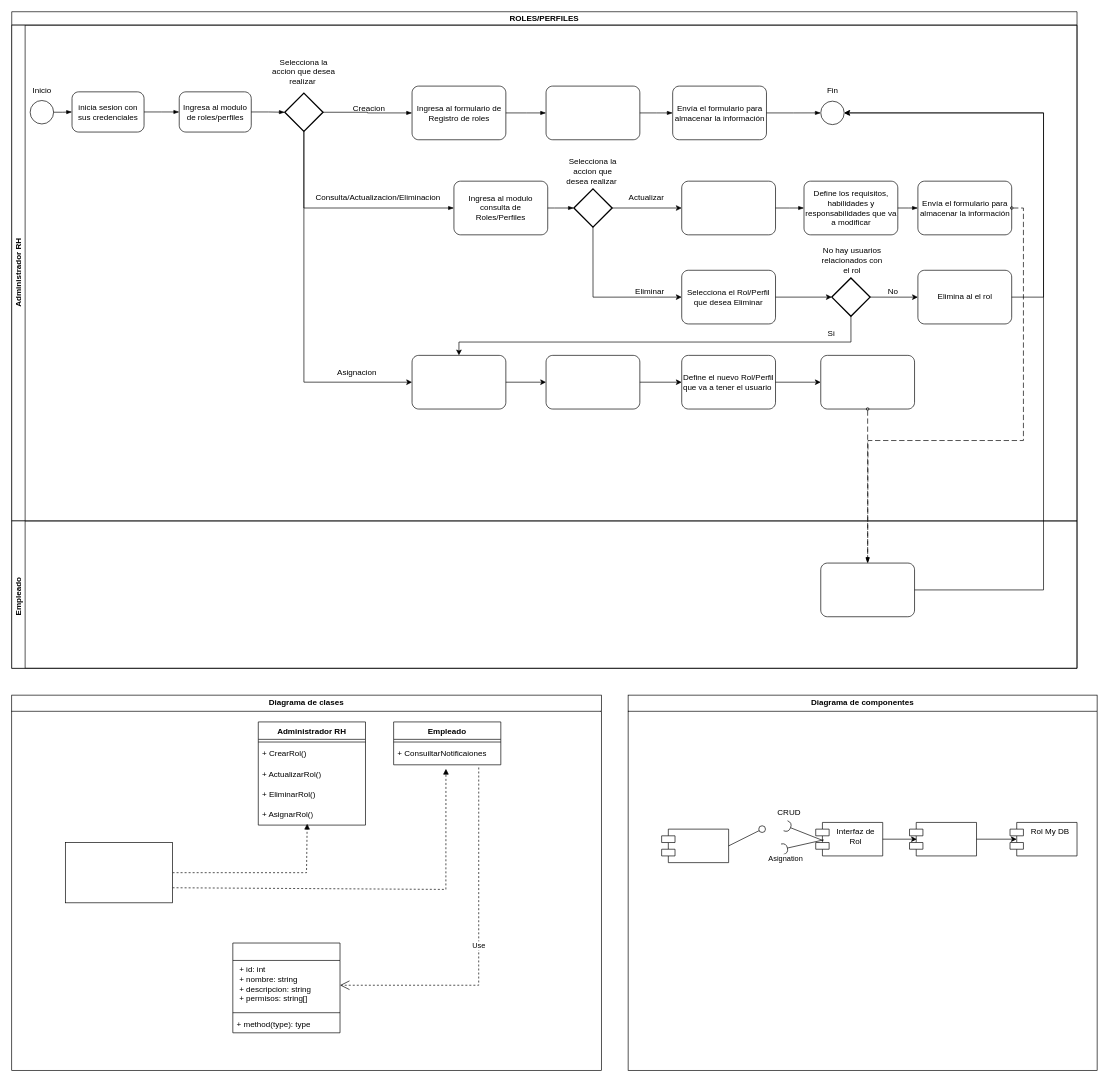
This 1109x1082 diagram has some shape labels left out. Here are the shapes that lost their labels. From the top down, the box of each, then its label:
(545, 85, 640, 140): Define los requisitos, habilidades y responsabilidades
(681, 180, 776, 235): Selecciona el Rol/Perfil que desea modificar
(411, 355, 506, 409): Ingresa al modulo de Usuarios
(545, 355, 640, 409): Selecciona el usuario al cual le va asignar un Rol/Perfil
(820, 355, 915, 409): Envia el formulario para acmacenar la informacion
(820, 562, 915, 617): Recibe una notificacion de que se le actualizo o asigno un Rol/Permiso
(661, 828, 729, 863): Cliente
(909, 822, 977, 856): Rol Sevice
(65, 842, 173, 903): Usuario + id: int + email: string + password: string + rol_id: int
(232, 942, 340, 1033): Rol
